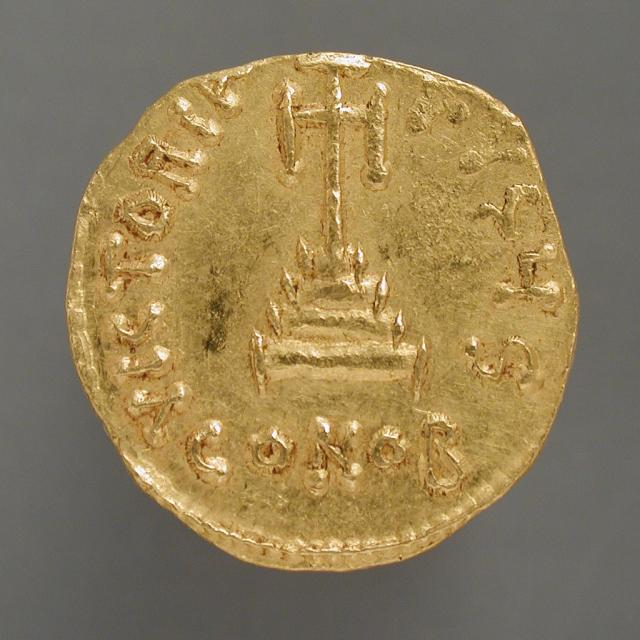Coin: (69, 52, 578, 571)
